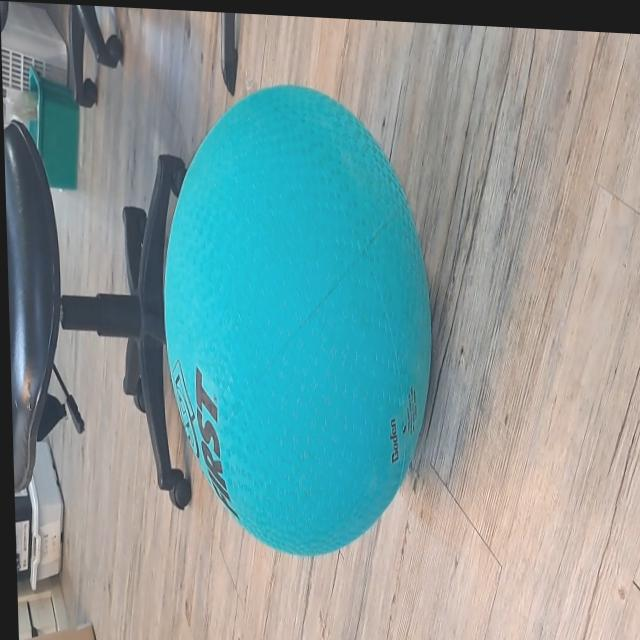ALGAE: (156, 76, 440, 566)
